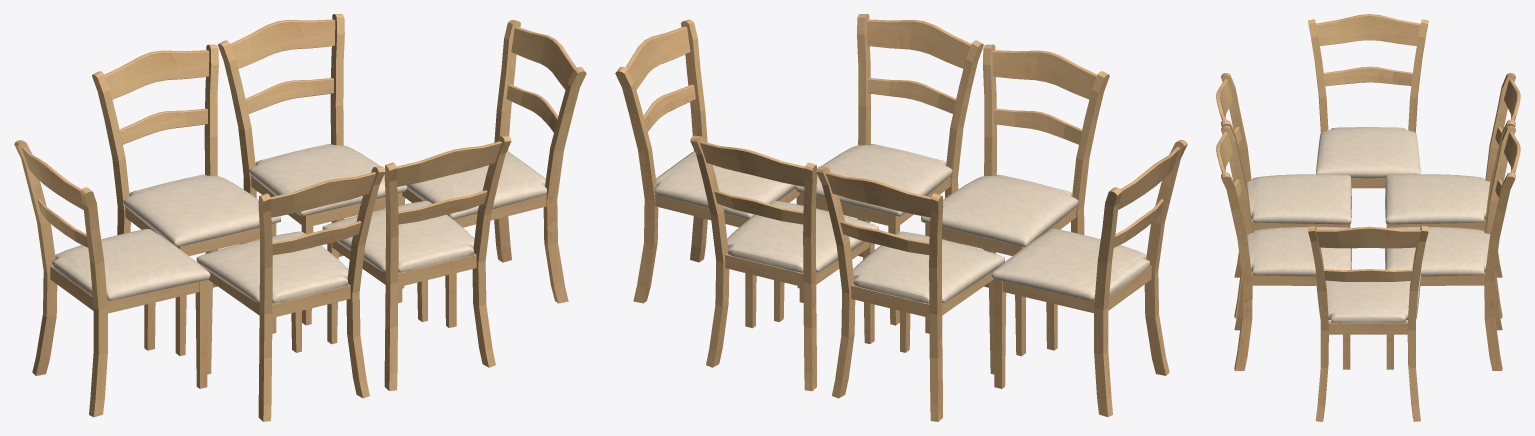
File: candeng.fbx
The picture shows the model from 3 angles, left to right: view 1: azimuth 30°, elevation 25°; view 2: azimuth 150°, elevation 25°; view 3: azimuth 270°, elevation 25°; orthographic projection. The views are drawn at different scales.
Visible parts, largest first — view 1: candeng; view 2: candeng; view 3: candeng.
Boxes of the visible parts, x1,y1,x2,y2 form: candeng: (14,14,586,421); candeng: (615,14,1187,421); candeng: (1216,14,1520,421).
Size of the model in its own units: 231 by 101 by 139.
